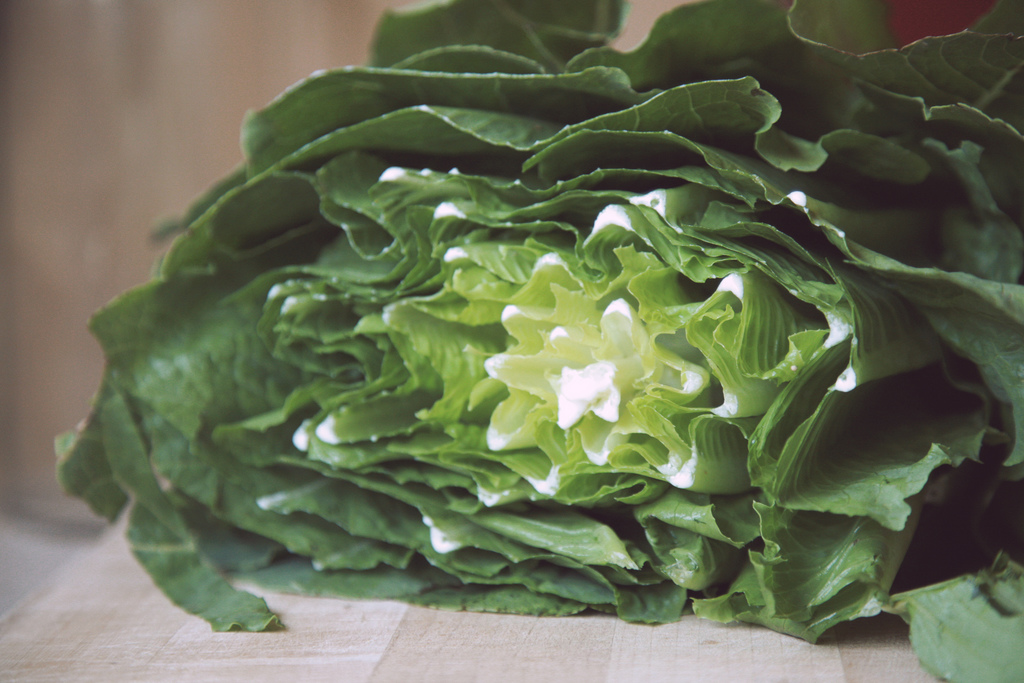chopped lettuce: (247, 115, 970, 602)
